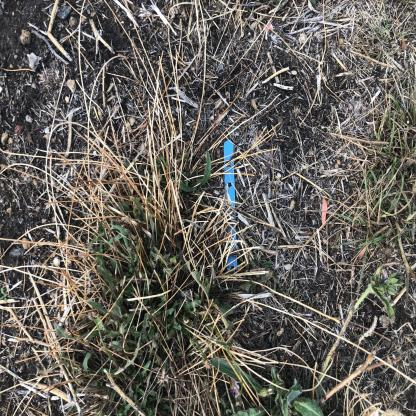trash: (105, 293, 211, 319)
